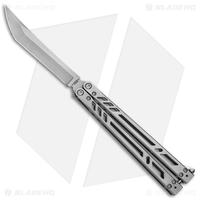knife: (3, 4, 190, 192)
